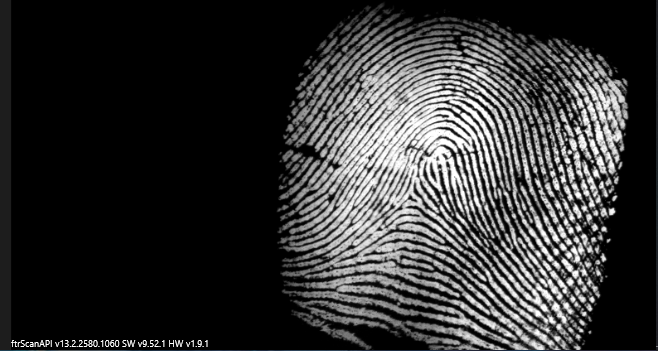deltas: (384, 176, 436, 220)
nucleo: (419, 139, 465, 180)
